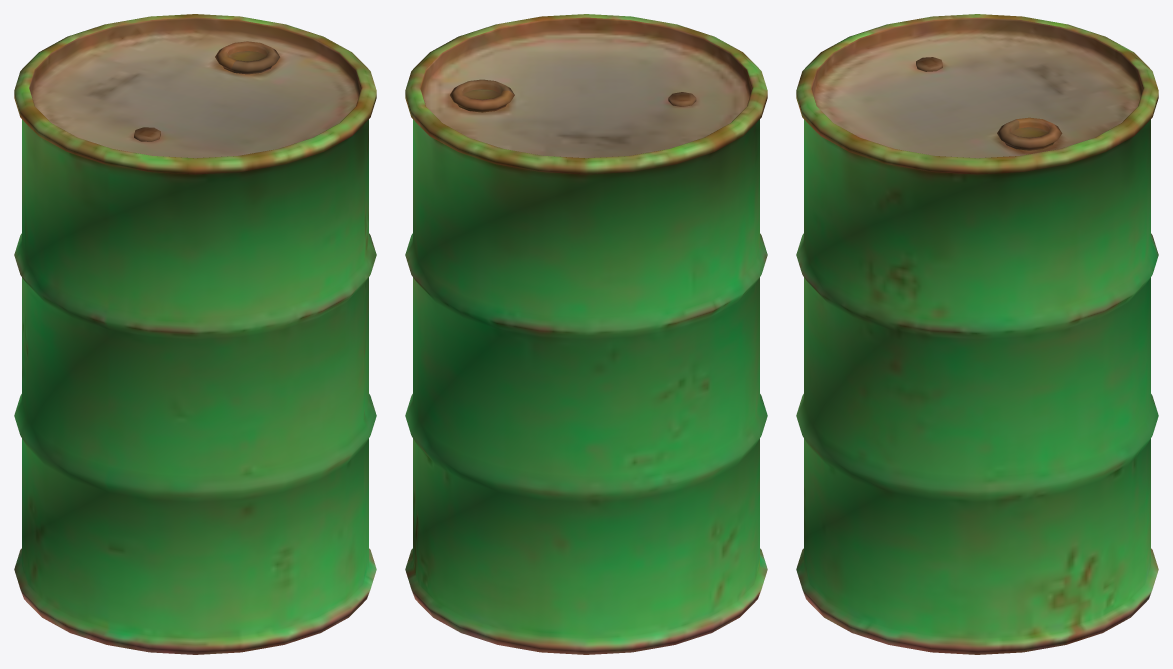
3 views of the same model, side by side, from view 1: azimuth 30°, elevation 25°; view 2: azimuth 150°, elevation 25°; view 3: azimuth 270°, elevation 25° (orthographic).
Bounding box in the file's own units: 8.7 × 13.04 × 8.7.
Materials: 1 (1 with a texture image).
